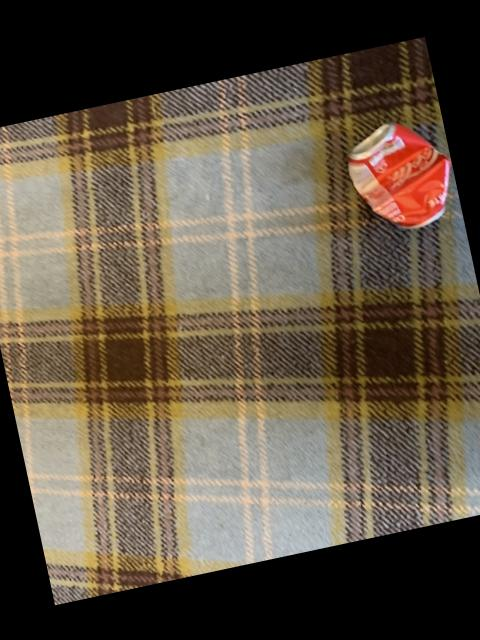metal: (350, 120, 451, 225)
